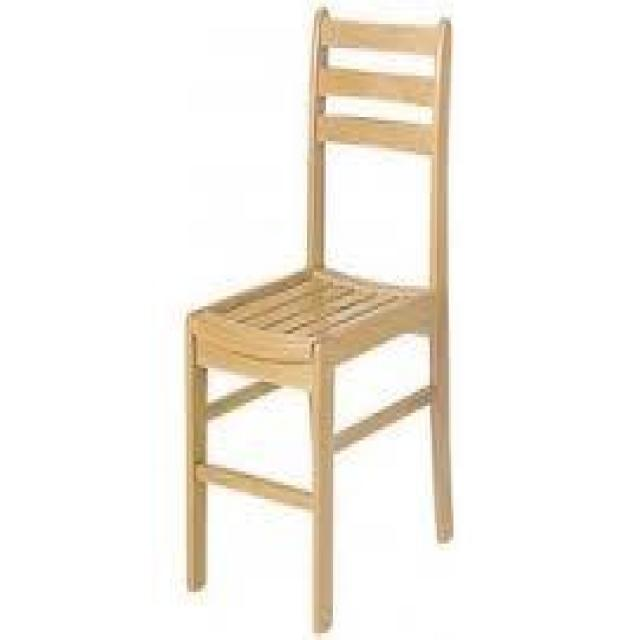chair: (165, 12, 484, 611)
